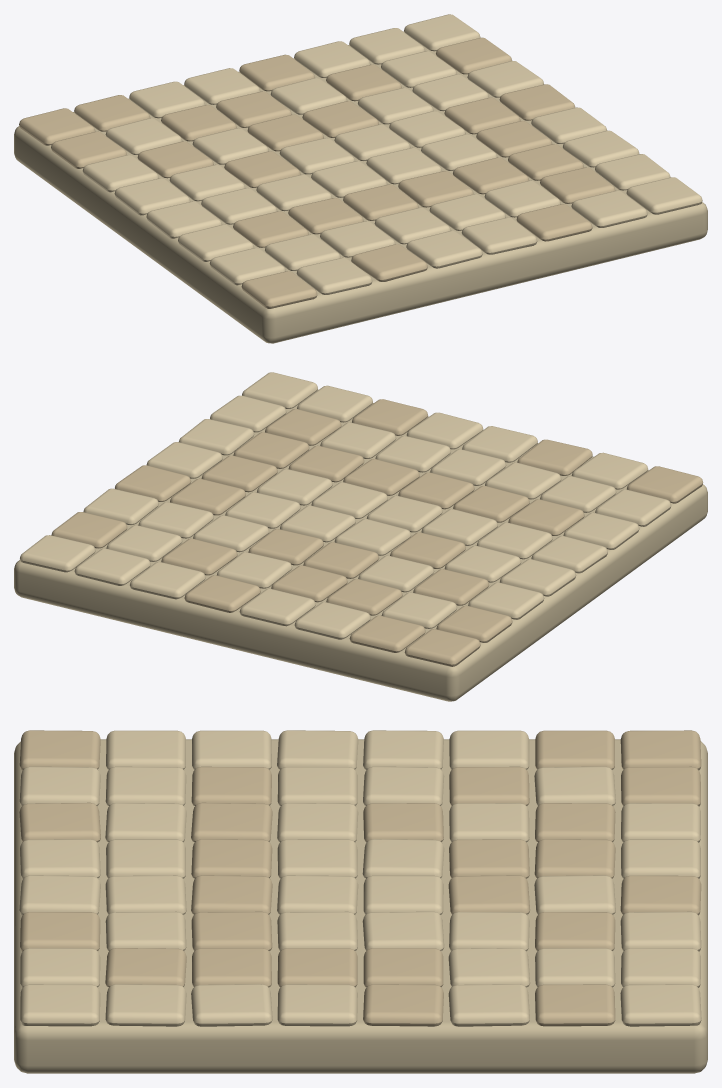
The model's file is street_tile_3m.glb.
3 views of the same model, one above another, from view 1: azimuth 30°, elevation 25°; view 2: azimuth 150°, elevation 25°; view 3: azimuth 270°, elevation 25° (orthographic). The views are drawn at different scales.
Visible parts, largest first — view 1: Paving_stone.001, Paving_stone, Tile_base; view 2: Paving_stone.001, Paving_stone, Tile_base; view 3: Paving_stone.001, Paving_stone, Tile_base.
Part boxes in pixels (<box>): Paving_stone.001: <box>82,14,702,294</box>; Paving_stone: <box>19,37,615,308</box>; Tile_base: <box>14,31,707,343</box>; Paving_stone.001: <box>20,372,671,639</box>; Paving_stone: <box>51,399,703,666</box>; Tile_base: <box>14,389,707,701</box>; Paving_stone.001: <box>19,730,701,1026</box>; Paving_stone: <box>19,730,701,1026</box>; Tile_base: <box>14,739,707,1073</box>.
Size of the model in its own units: 3 by 0.2855 by 3.
